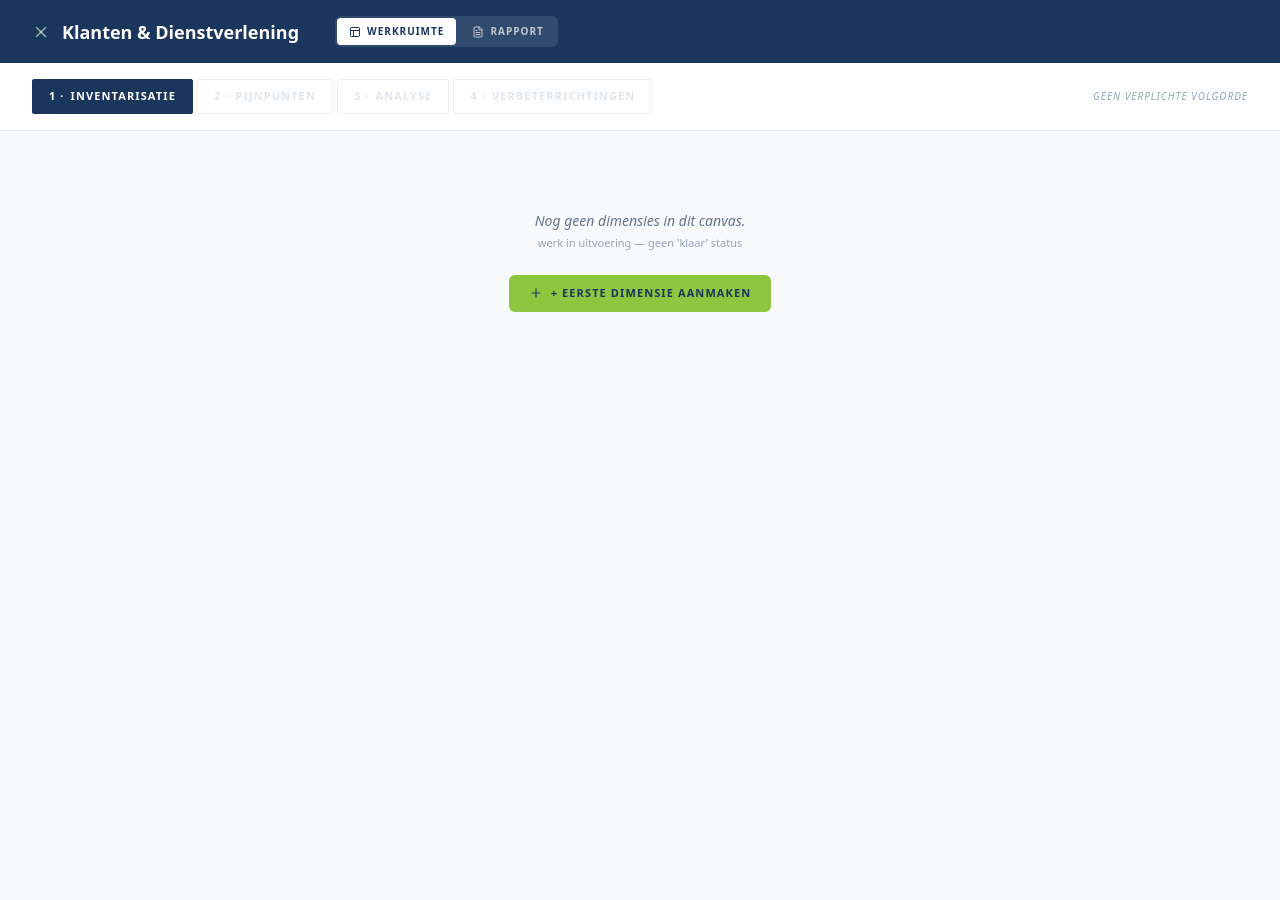
KlantenWerkblad — lege-canvas flow (stap 11.E correctie) › toont lege-state CTA en opent DimensieCreateModal bij click
This screenshot has width=1280, height=900.
Note: Click CTA → modal opent
Click the button with test id "dimensie-cta-eerste" at {"x": 640, "y": 293}, box [509,275,771,312]
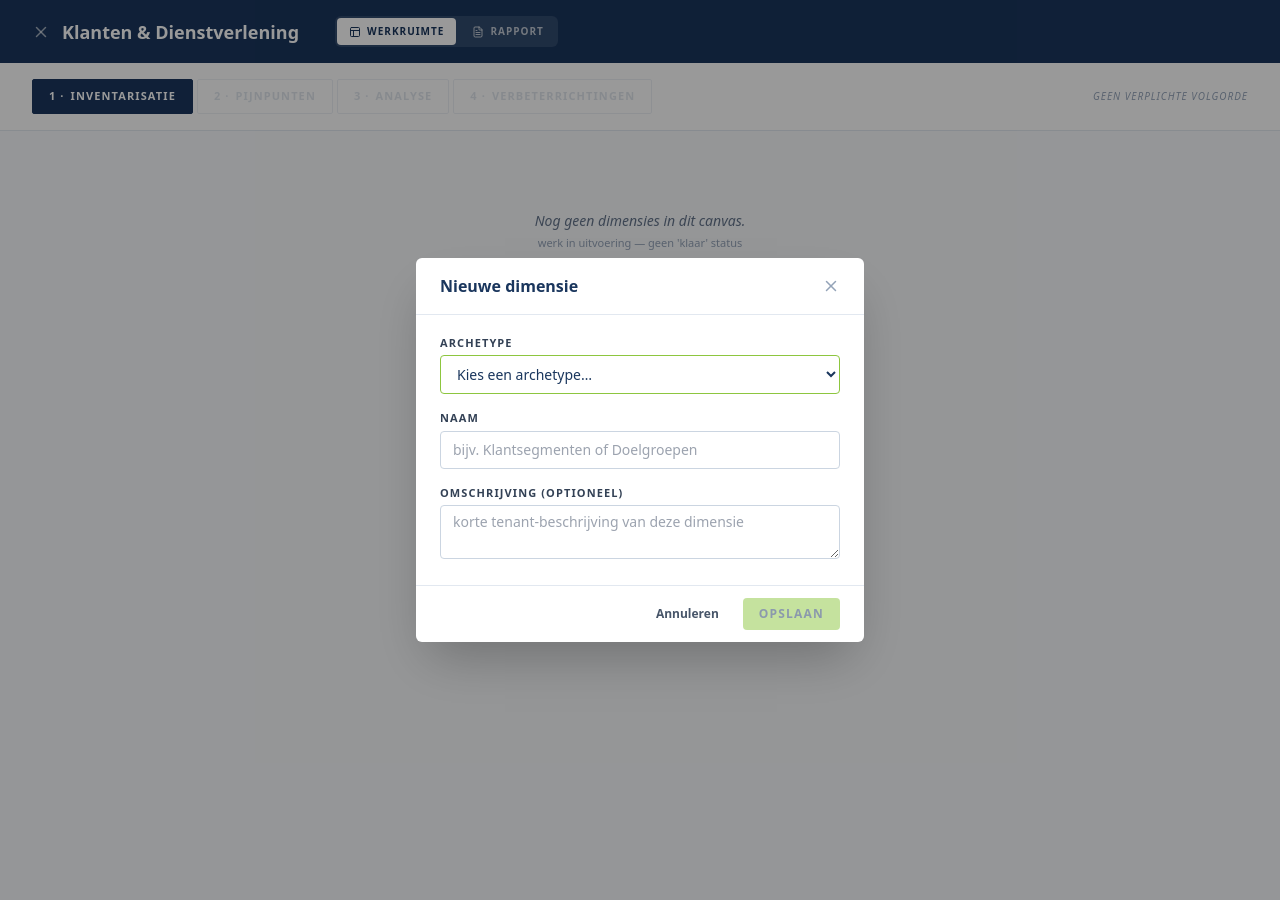
Result: the heading "Nieuwe dimensie" is shown at [440,274,578,298]
